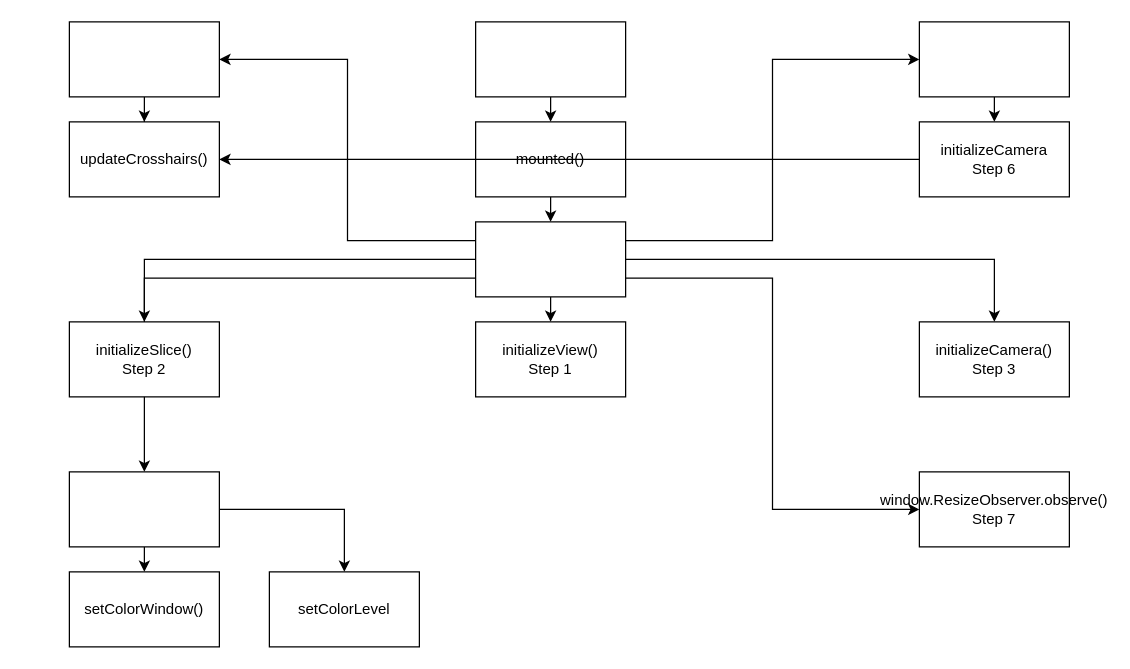
Image size: 1130x669. Some labels were removed from this diagram. Each missing label, with the box of its shape:
prepareViewer(): (474, 221, 626, 297)
representation.getActors()[0].getProperty() Step 8: (68, 471, 219, 547)
view.getInteractor().onRenderEvent() Step 4: (68, 21, 219, 97)
VtkViewer: (474, 21, 626, 97)
window.ResizeObserver Step 5: (918, 21, 1069, 97)
